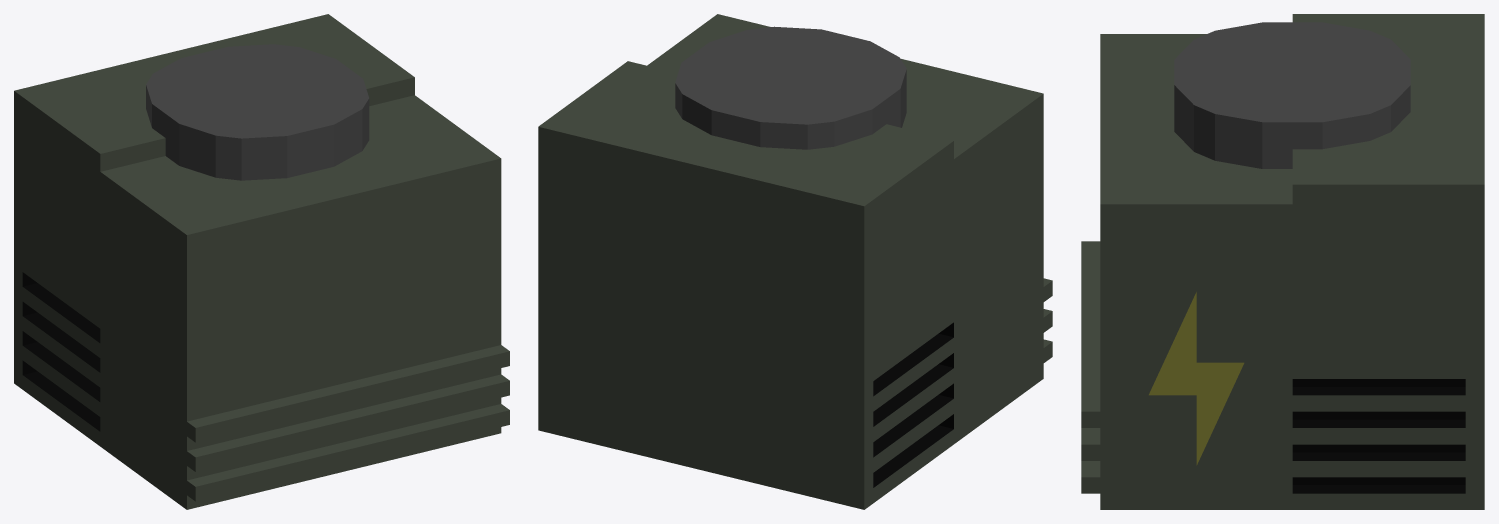
Rendered from Quake Box.fbx.
3 views of the same model, side by side, from view 1: azimuth 30°, elevation 25°; view 2: azimuth 150°, elevation 25°; view 3: azimuth 270°, elevation 25° (orthographic). The views are drawn at different scales.
Parts seen in each view (by area): view 1: Body, Button; view 2: Body, Button; view 3: Body, Button.
Part boxes in pixels (x1,y1,x2,y2): Body: (14,14,509,509); Button: (146,44,369,180); Body: (538,14,1052,509); Button: (675,26,906,149); Body: (1081,14,1484,509); Button: (1174,22,1410,168).
Bounding box in the file's own units: 1000 × 1000 × 963.
